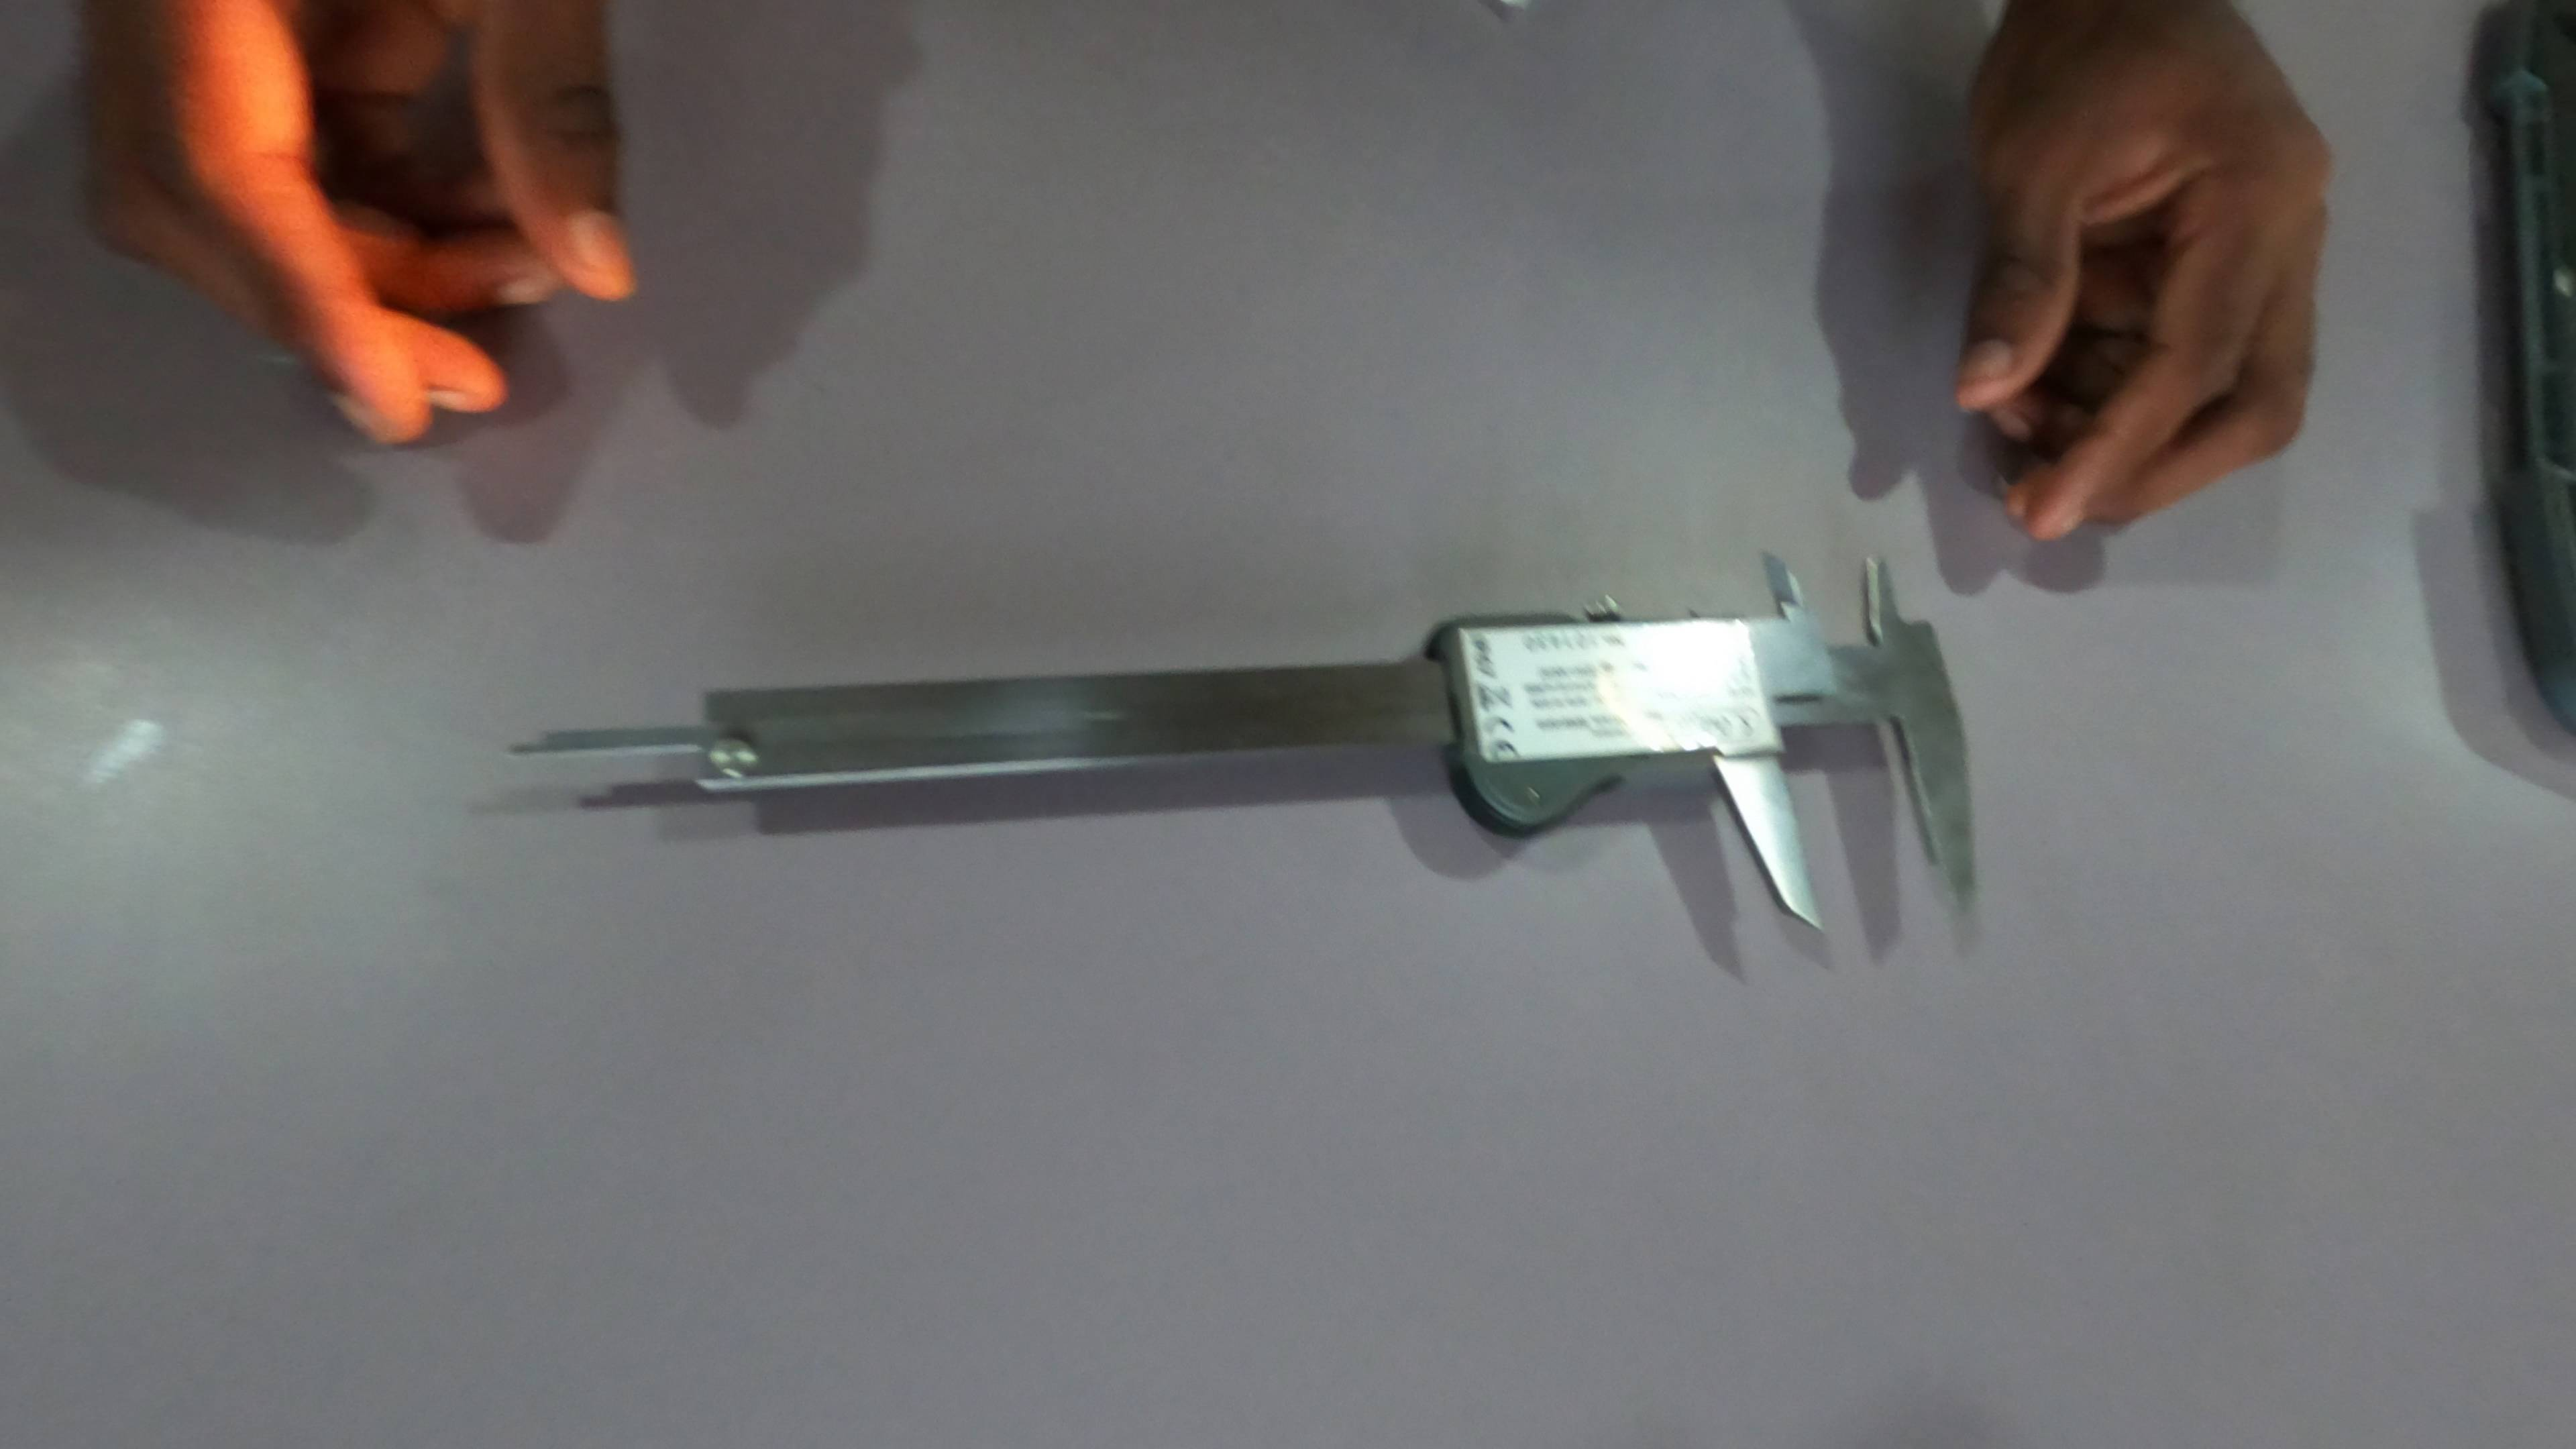vernier_caliper: (502, 545, 1966, 932)
